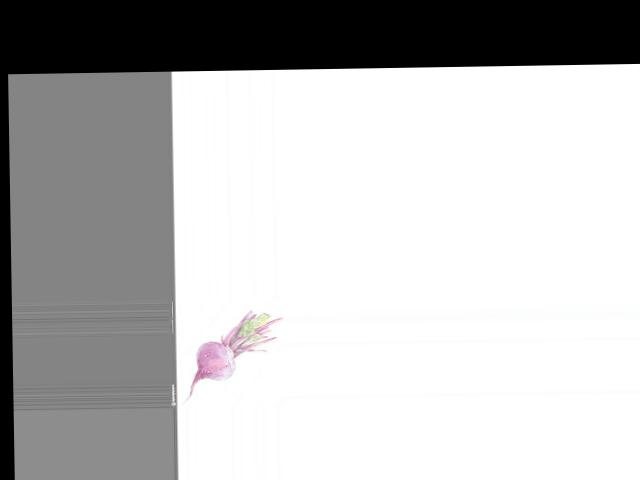beet: (180, 309, 284, 403)
